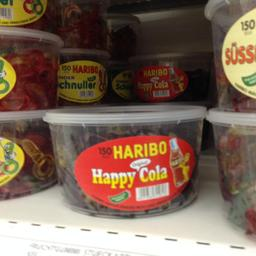candy: (49, 98, 207, 212), (169, 104, 255, 227), (0, 107, 61, 208), (196, 0, 254, 105), (0, 28, 65, 108)
